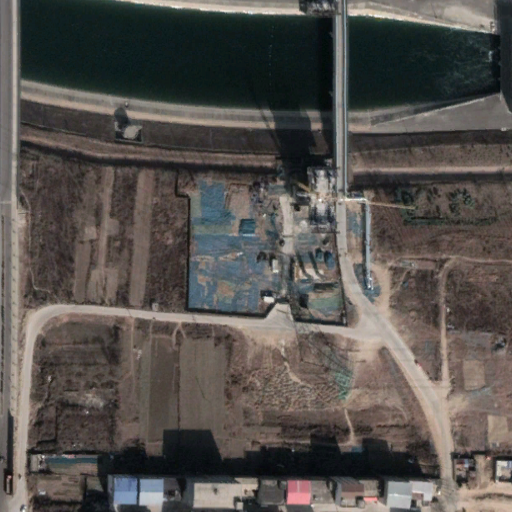cw: (178, 171, 381, 327)
